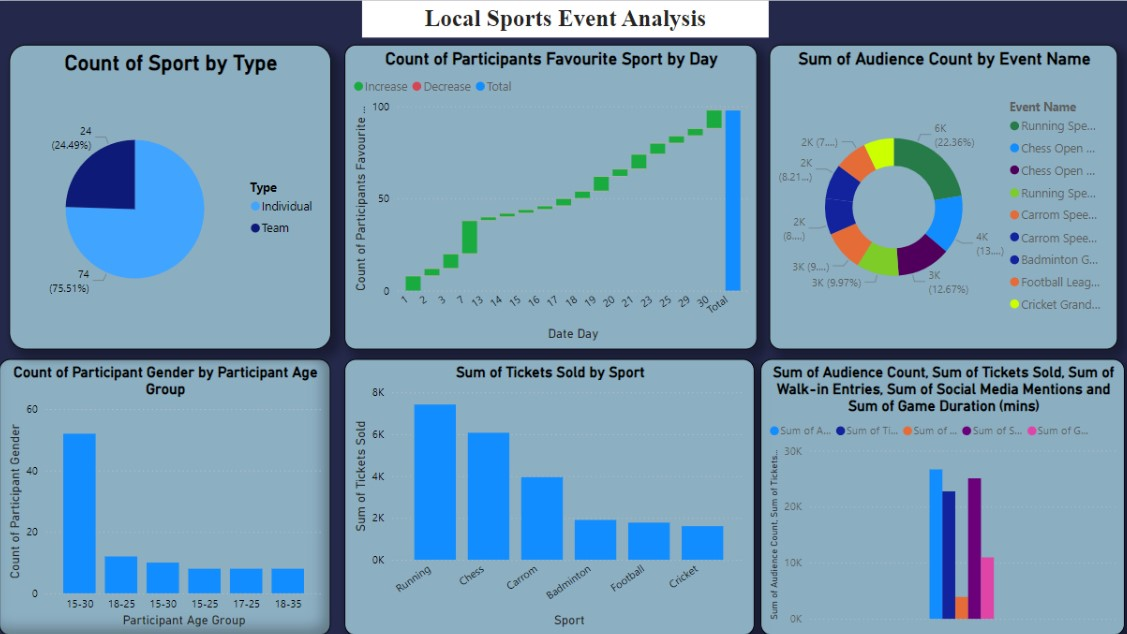

Layout of this report page (visuals, bound fields, positions):
{"tool":"powerbi","page":{"name":"Page 1","canvas":[1280,720],"ordinal":0},"visuals":[{"type":"columnChart","fields":{"Category":["in.Participant Age Group"],"Y":["CountNonNull(in.Participant Gender)"]},"box":[4.8,406.6,377.6,313.7],"z":0},{"type":"pieChart","fields":{"Category":["in.Type"],"Y":["CountNonNull(in.Sport)"]},"box":[11.8,50.5,365,346.5],"z":1000},{"type":"columnChart","fields":{"Category":["in.Date.Variation.Date Hierarchy.Year","in.Date.Variation.Date Hierarchy.Quarter","in.Date.Variation.Date Hierarchy.Month","in.Date.Variation.Date Hierarchy.Day"],"Y":["CountNonNull(in.Participants Favourite Sport)"]},"box":[391.9,50.5,467.6,346.5],"z":2000},{"type":"columnChart","fields":{"Y":["Sum(in.Tickets Sold)"],"Category":["in.Sport"]},"box":[391.7,406.1,465.1,313.9],"z":3000},{"type":"donutChart","fields":{"Category":["in.Event Name"],"Y":["Sum(in.Audience Count)"]},"box":[873,50.5,395.3,346.5],"z":4000},{"type":"clusteredColumnChart","fields":{"Y":["Sum(in.Audience Count)","Sum(in.Tickets Sold)","Sum(in.Walk-in Entries)","Sum(in.Social Media Mentions)","Sum(in.Game Duration (mins))"]},"box":[859.7,406.1,413.3,313.9],"z":5000},{"type":"textbox","box":[411.8,0,460.8,41.8],"z":7000}]}

Visuals, with their boxes in screenshot pixels (x1, y1, x2, y2), scaled from the page's 1280x720 canvas onto the 1127x634 screenshot:
columnChart - in.Participant Age Group x CountNonNull(in.Participant Gender): (left=4, top=358, right=337, bottom=633)
pieChart - in.Type x CountNonNull(in.Sport): (left=10, top=44, right=332, bottom=350)
columnChart - in.Date.Variation.Date Hierarchy.Year x in.Date.Variation.Date Hierarchy.Quarter: (left=345, top=44, right=757, bottom=350)
columnChart - Sum(in.Tickets Sold) x in.Sport: (left=345, top=358, right=754, bottom=633)
donutChart - in.Event Name x Sum(in.Audience Count): (left=769, top=44, right=1117, bottom=350)
clusteredColumnChart - Sum(in.Audience Count) x Sum(in.Tickets Sold): (left=757, top=358, right=1121, bottom=633)
textbox: (left=363, top=0, right=768, bottom=37)
